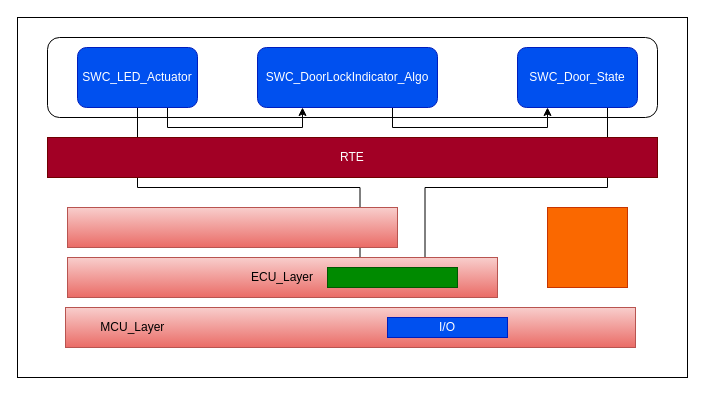
The diagram is 705 pixels wide and 395 high, and some of its shapes have lost their labels. Each missing label, with the centre of its shape:
"CDD" goes at [587,247].
"Service_Layer" goes at [232,227].
"SWC_IO_Abstaraction" goes at [392,277].
